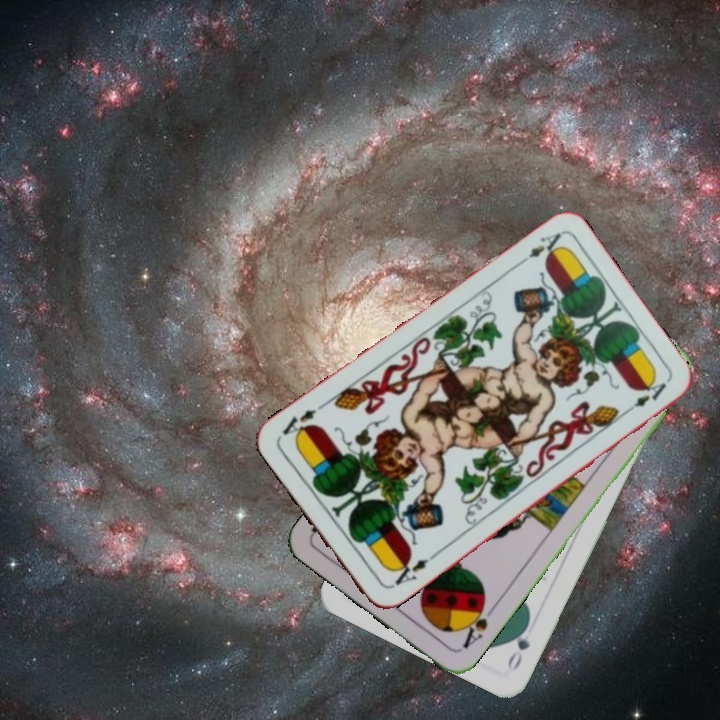EA: (513, 228, 567, 269), (386, 550, 438, 591)
GO: (503, 617, 533, 673)
SA: (456, 596, 498, 652)
